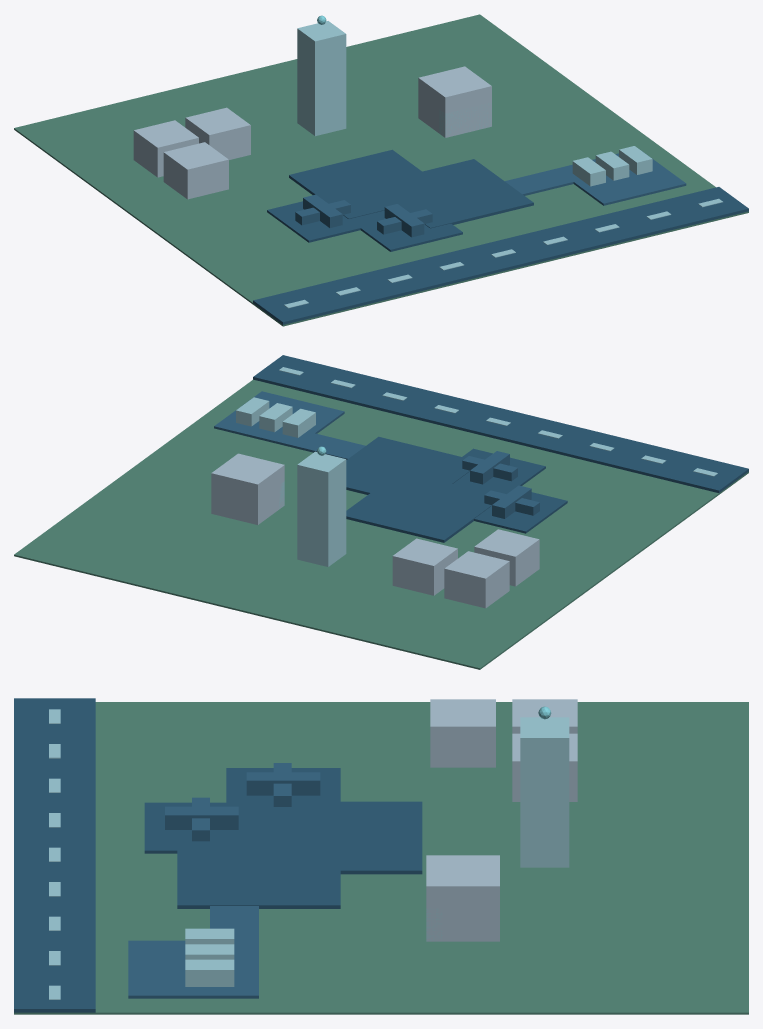
File: stage_11.glb
The picture shows the model from 3 angles, top to bottom: view 1: azimuth 30°, elevation 25°; view 2: azimuth 150°, elevation 25°; view 3: azimuth 270°, elevation 25°; orthographic projection. The views are drawn at different scales.
Parts seen in each view (by area): view 1: geometry_0; view 2: geometry_0; view 3: geometry_0.
Part boxes in pixels (box(x1,y1,x2,y2)): geometry_0: box(14, 14, 748, 326); geometry_0: box(14, 355, 748, 669); geometry_0: box(14, 698, 748, 1014).
Size of the model in its own units: 9 by 2.06 by 9.
